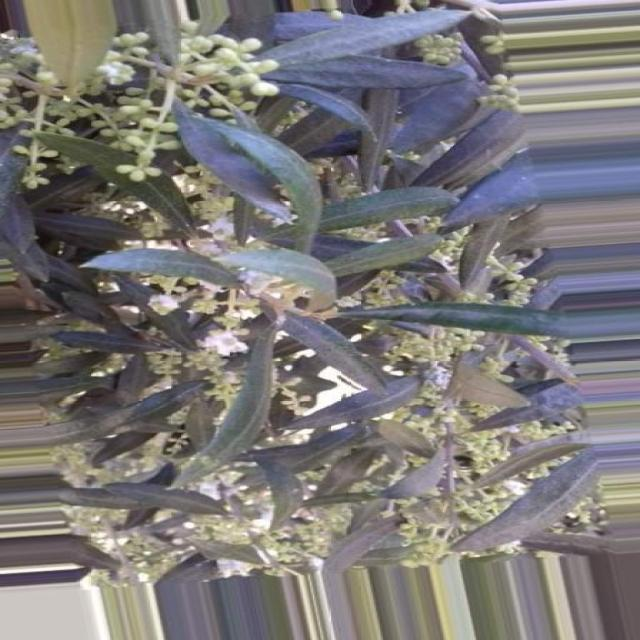Psyllid: (193, 325, 246, 358), (99, 56, 139, 86), (147, 290, 180, 317)
